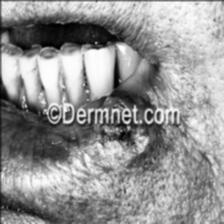Potentially Malignant Skin Tumors: (100, 122, 132, 148)
